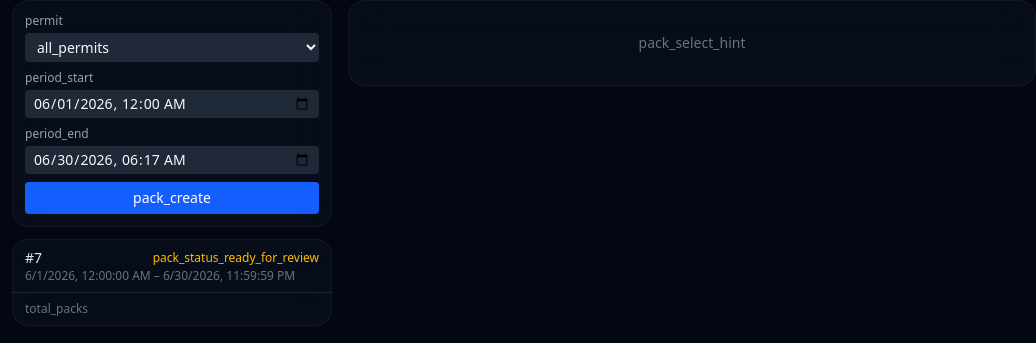
Test: Compliance ReportPacksTab › shows the approve button for admins and disables it when blocking issues exist
This screenshot has width=1036, height=343.
Click the text "#7": (34, 258) x1=25 y1=248 x2=42 y2=268
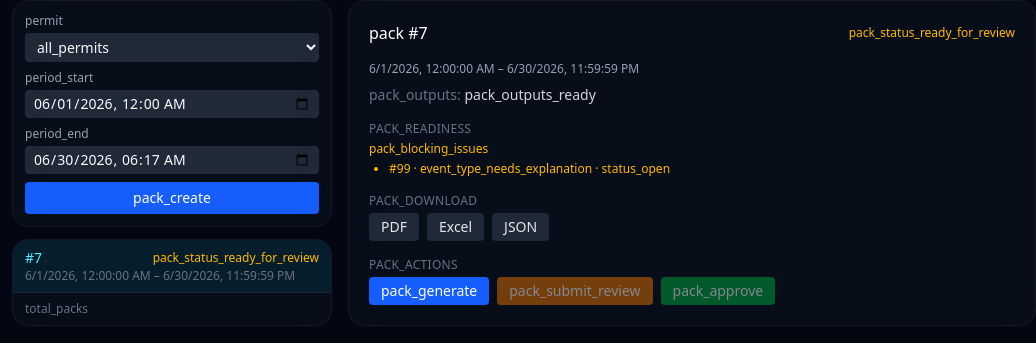
Expected: the text "pack_blocking_issues" is shown, x1=369 y1=140 x2=488 y2=157
Expected: the list item "#99 · event_type_needs_explanation · status_open" is shown, x1=389 y1=160 x2=670 y2=177
Expected: the button "pack_approve" is disabled, x1=660 y1=277 x2=775 y2=305
